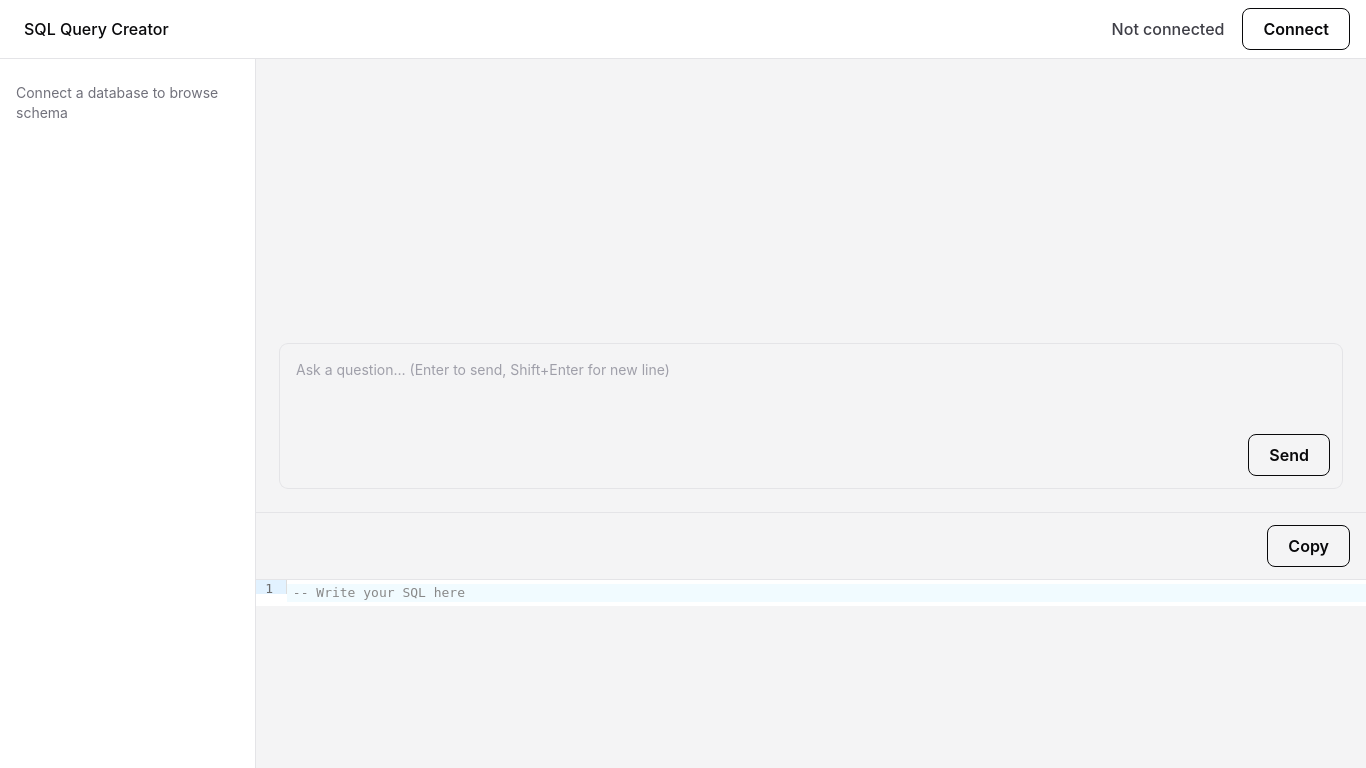
Scenario: HomePage › opens connection dialog when Connect button is clicked
The image size is (1366, 768).
Click the button "Connect" at (1296, 29), box [1242,8,1350,50]
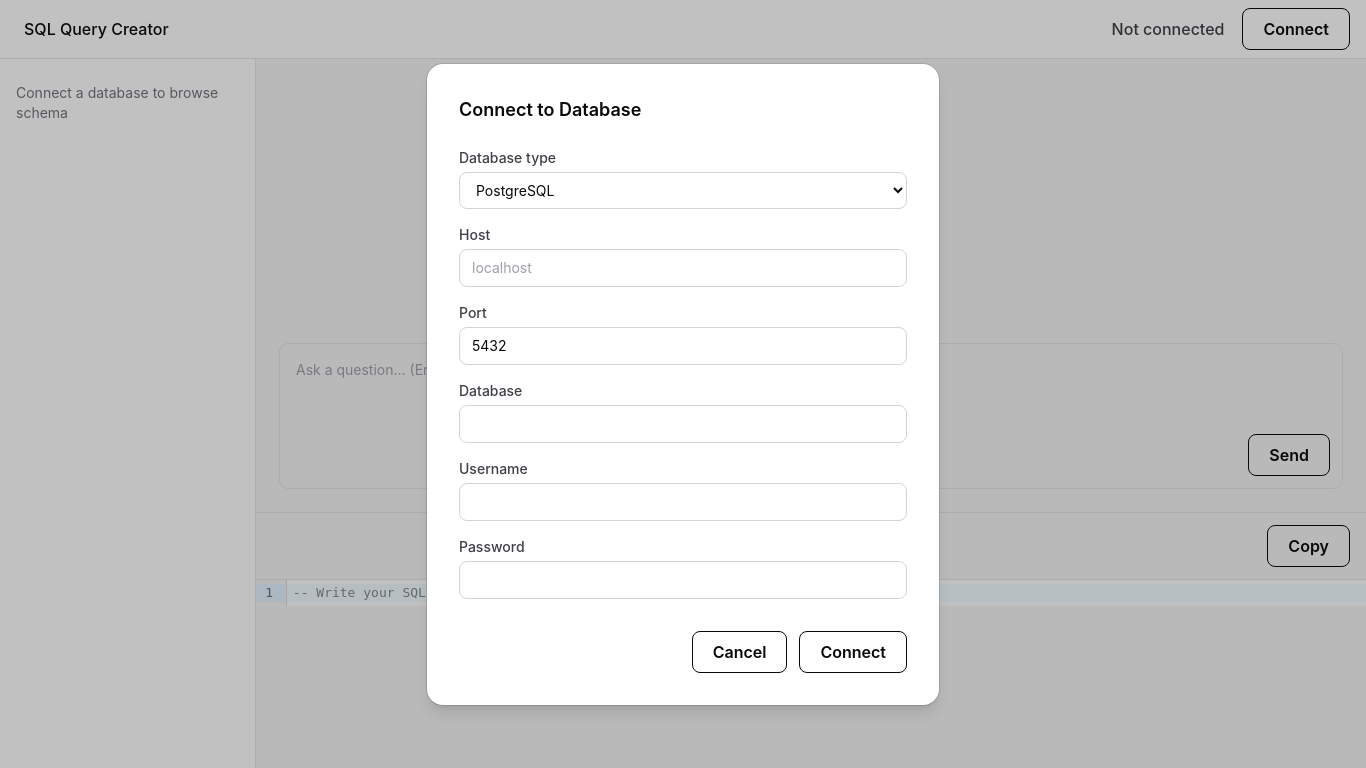
Check: the dialog with test id "connection-dialog" is shown
